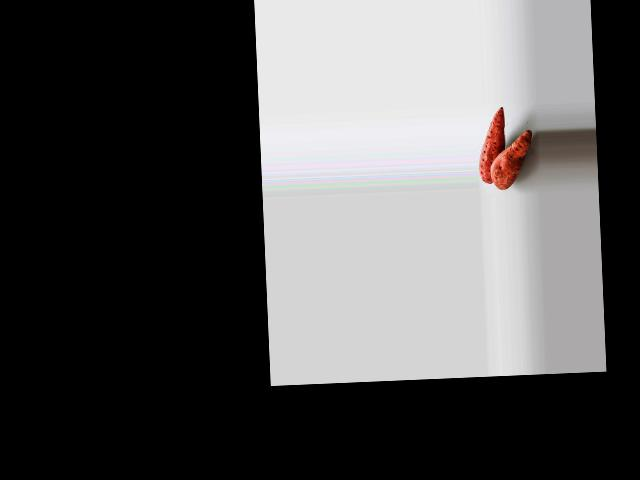sweet_potato: (477, 111, 507, 183)
